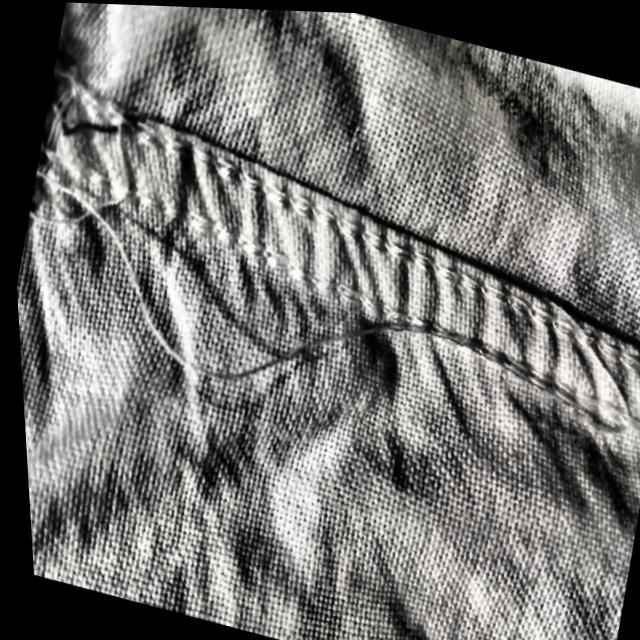Stitch: (7, 153, 640, 477)
